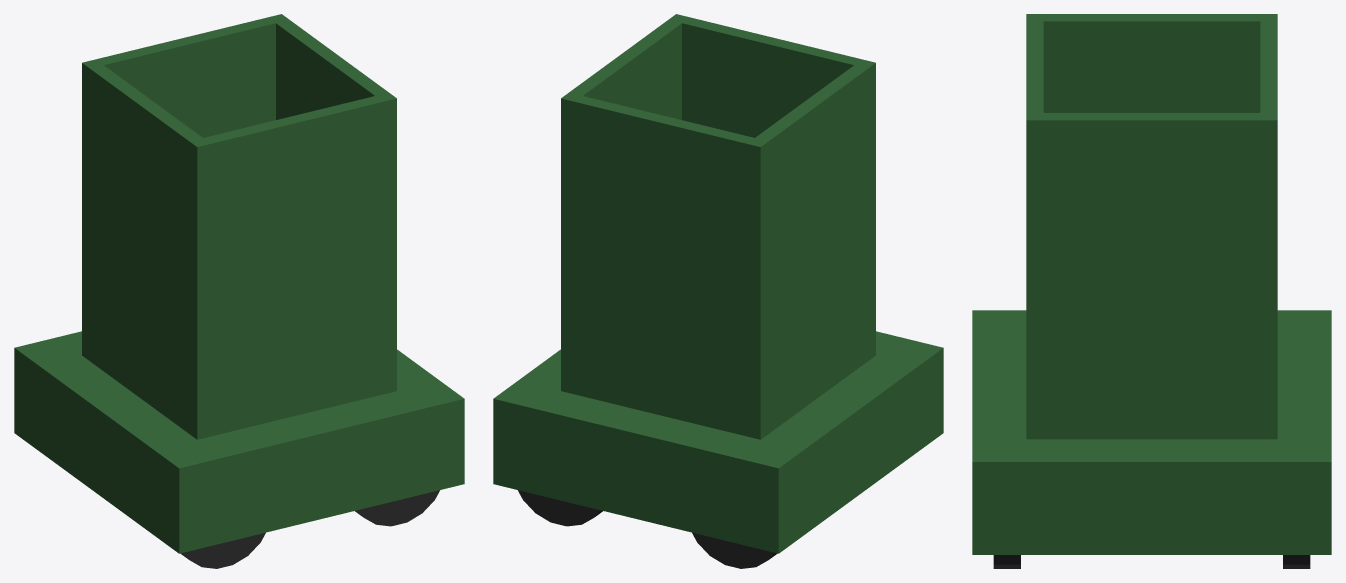
File: HomingMissleShooter.fbx
3 renders of one model, left to right at view 1: azimuth 30°, elevation 25°; view 2: azimuth 150°, elevation 25°; view 3: azimuth 270°, elevation 25°, orthographic. The views are drawn at different scales.
Parts seen in each view (by area): view 1: Cube; view 2: Cube; view 3: Cube.
Part boxes in pixels (x1,y1,x2,y2): Cube: (14, 14, 464, 568); Cube: (493, 14, 943, 568); Cube: (972, 14, 1331, 568).
Size of the model in its own units: 52.8 by 72.82 by 52.8.
